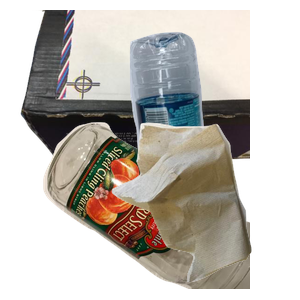cardboard: (18, 10, 258, 171)
glass: (41, 120, 281, 300)
plastic: (127, 29, 300, 209)
trash: (109, 120, 300, 300)
